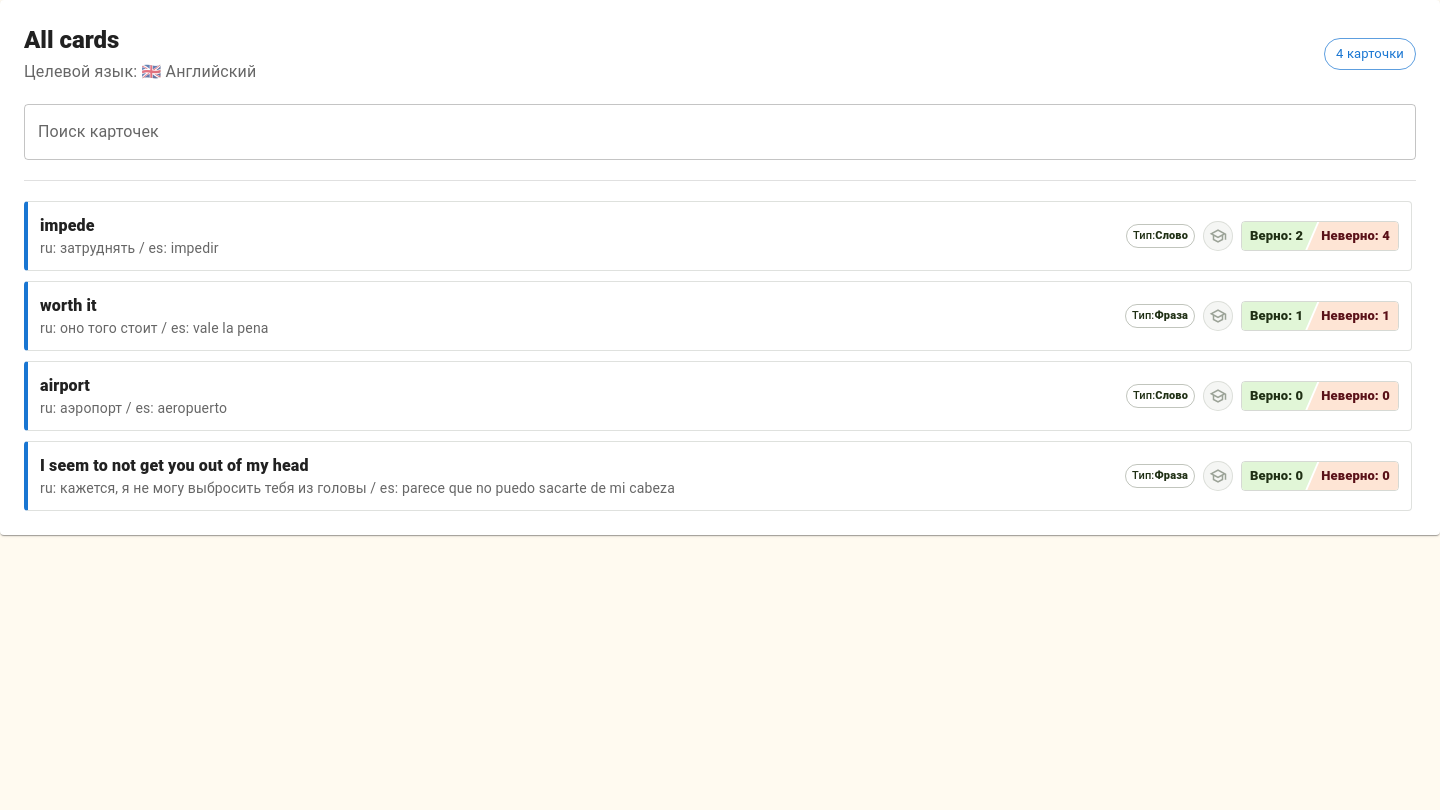
Scenario: CardSetDetailView › keeps the card stats tooltip open while the pointer moves from the chip into the tooltip
The image size is (1440, 810).
Hover over the element with test id "card_set_detail__card_stats__card-impede__root": (1320, 236) [1241,221,1399,251]
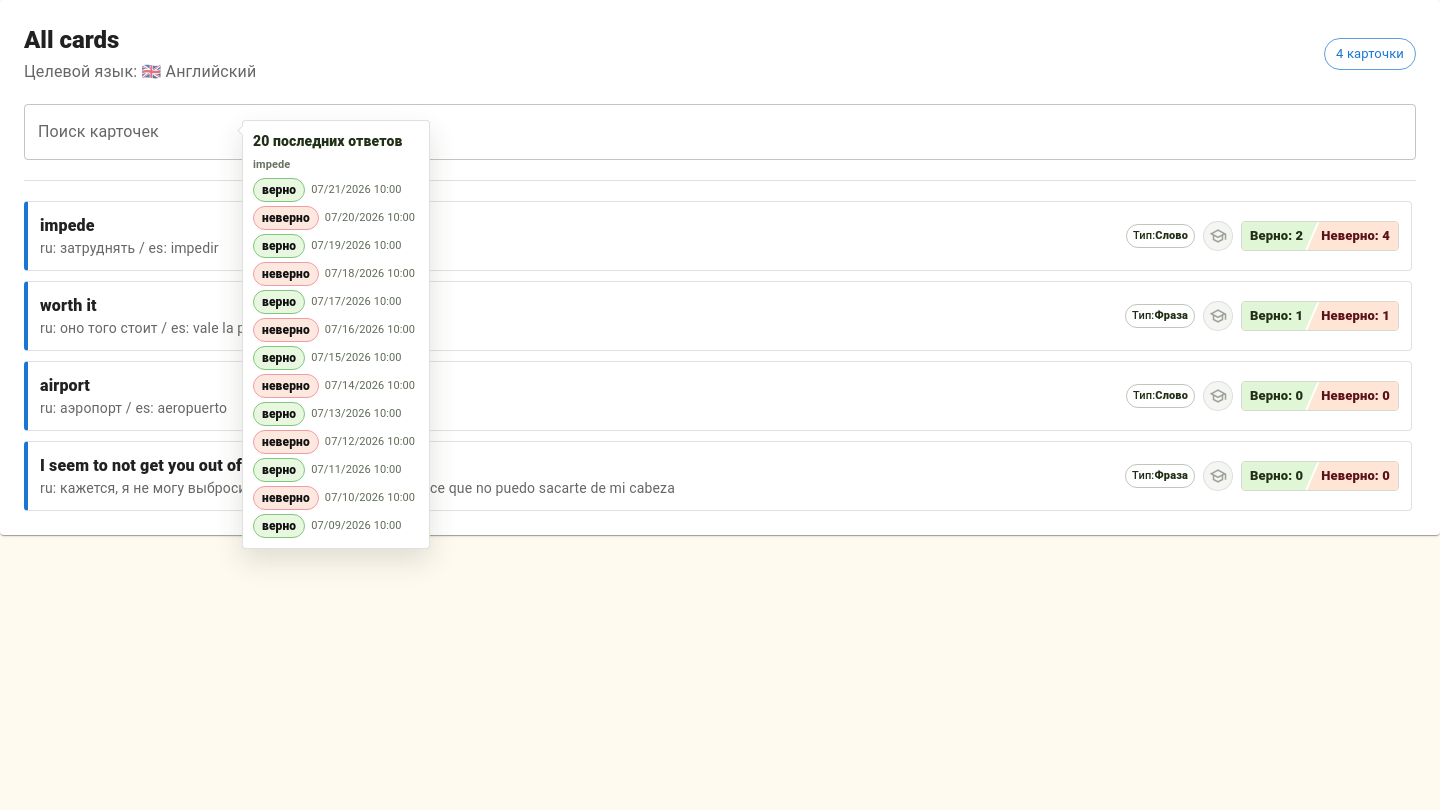
Move the pointer off the element with test id "card_set_detail__card_stats__card-impede__tooltip_anchor", box [1241,221,1399,251]
Now the element with test id "card_set_detail__card_stats__card-impede__recent_tooltip" is shown
Hover over the element with test id "card_set_detail__card_stats__card-impede__recent_tooltip": (336, 334) [253,131,419,538]
Now the element with test id "card_set_detail__card_stats__card-impede__recent_tooltip" is shown
Move the pointer off the element with test id "card_set_detail__card_stats__card-impede__recent_tooltip", box [253,131,419,538]
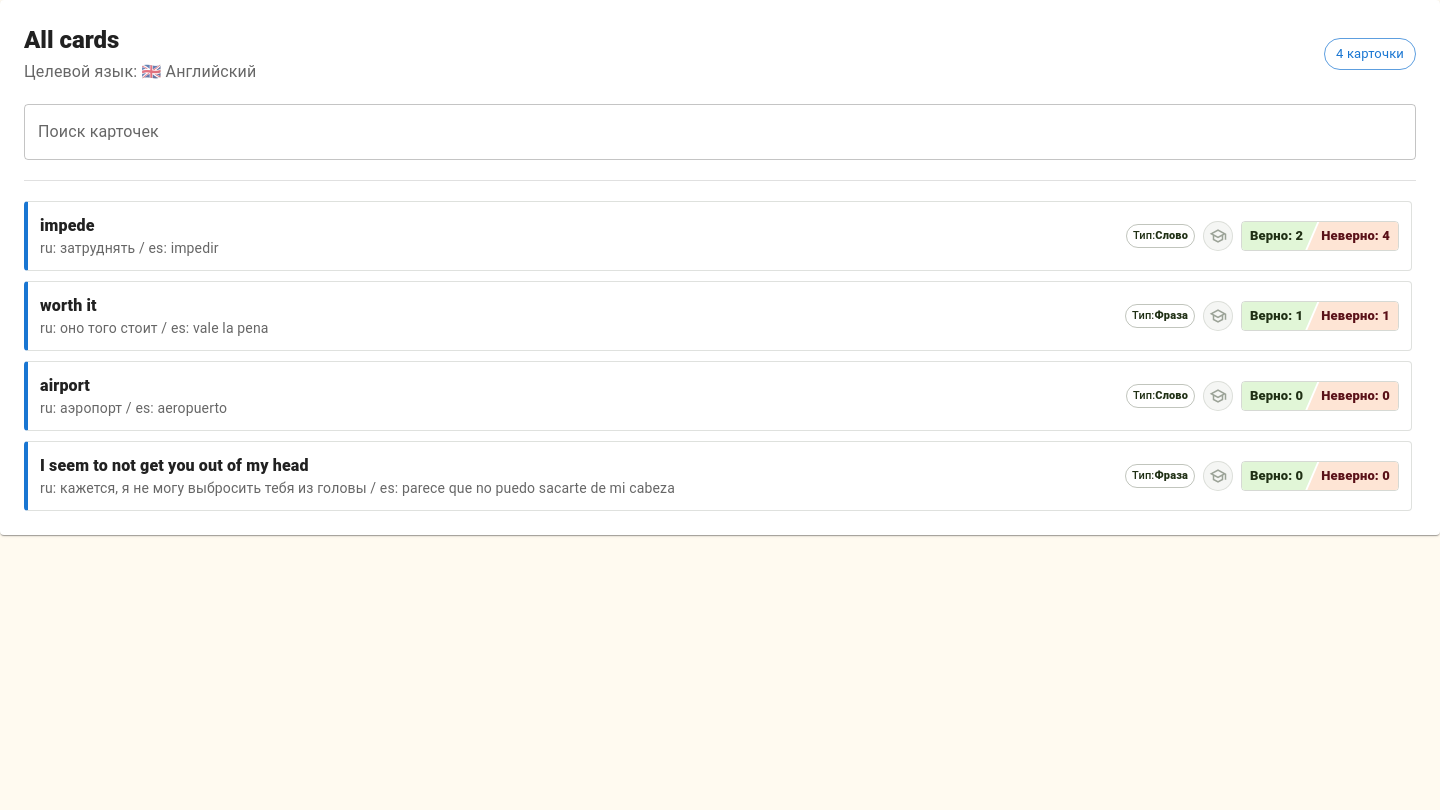
Now the element with test id "card_set_detail__card_stats__card-impede__recent_tooltip" is gone
